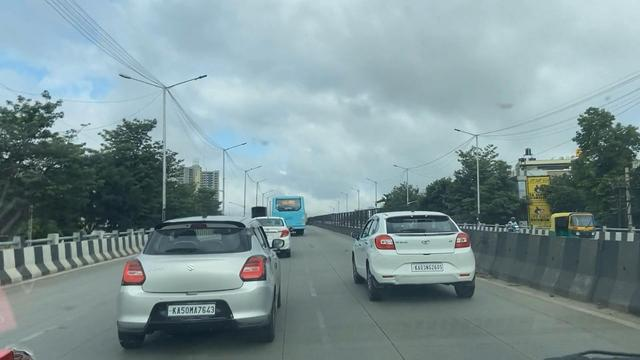HMV: (261, 174, 309, 237)
LMV: (84, 179, 285, 351), (347, 203, 481, 301), (243, 200, 296, 258)
